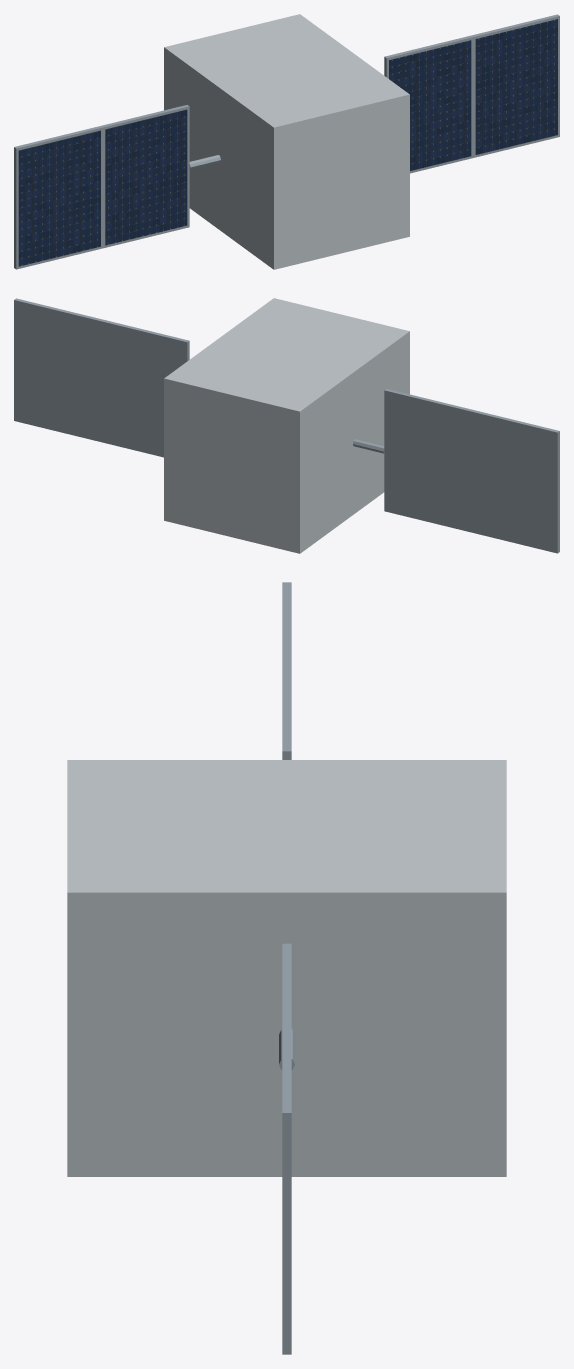
The model's file is ref-hawk-62697.glb.
3 renders of one model, top to bottom at view 1: azimuth 30°, elevation 25°; view 2: azimuth 150°, elevation 25°; view 3: azimuth 270°, elevation 25°, orthographic. The views are drawn at different scales.
Parts seen in each view (by area): view 1: Spacecraft body, Photovoltaic laminates (×4), Array frame (×4); view 2: Spacecraft body, Array frame (×4); view 3: Spacecraft body, Array frame (×2).
Boxes of the visible parts, left/top/right/bottom form: Spacecraft body: left=164, top=14, right=409, bottom=269; Photovoltaic laminates (×4): left=18, top=19, right=557, bottom=266; Array frame (×4): left=14, top=14, right=559, bottom=269; Spacecraft body: left=164, top=298, right=409, bottom=553; Array frame (×4): left=14, top=298, right=559, bottom=553; Spacecraft body: left=67, top=760, right=506, bottom=1176; Array frame (×2): left=282, top=666, right=291, bottom=1354.
Bounding box in the file's own units: 2 × 0.5 × 0.7.
Materials: 3 (1 with a texture image).
